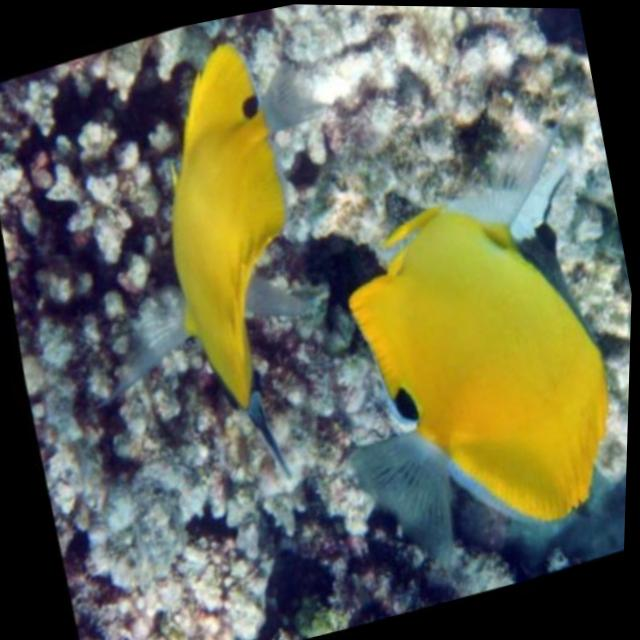Dead Coral: (243, 3, 624, 286), (53, 362, 368, 640)
